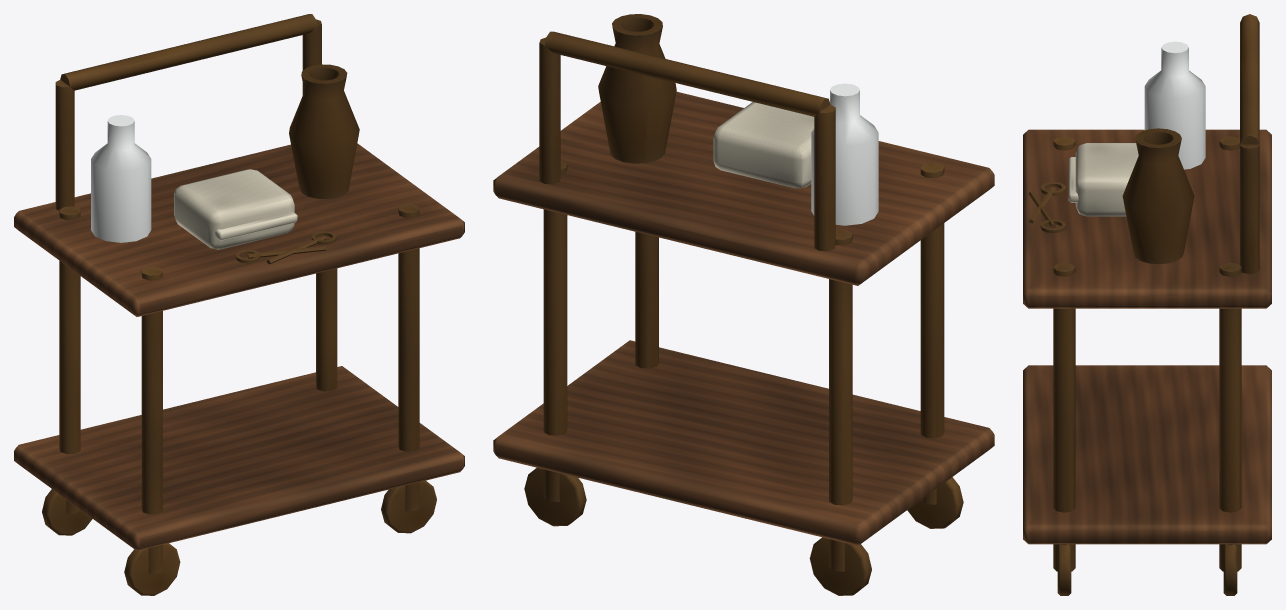
File: Furn_Med_Cart.fbx
3 views of the same model, side by side, from view 1: azimuth 30°, elevation 25°; view 2: azimuth 150°, elevation 25°; view 3: azimuth 270°, elevation 25° (orthographic). The views are drawn at different scales.
Visible parts, largest first — view 1: Furn_Med_Cart; view 2: Furn_Med_Cart; view 3: Furn_Med_Cart.
Part boxes in pixels (box(x1,y1,x2,y2)): Furn_Med_Cart: box(14, 14, 464, 595); Furn_Med_Cart: box(493, 14, 994, 595); Furn_Med_Cart: box(1023, 14, 1271, 595).
Bounding box in the file's own units: 0.7 × 0.908 × 0.45.
4 materials, 3 textured.
